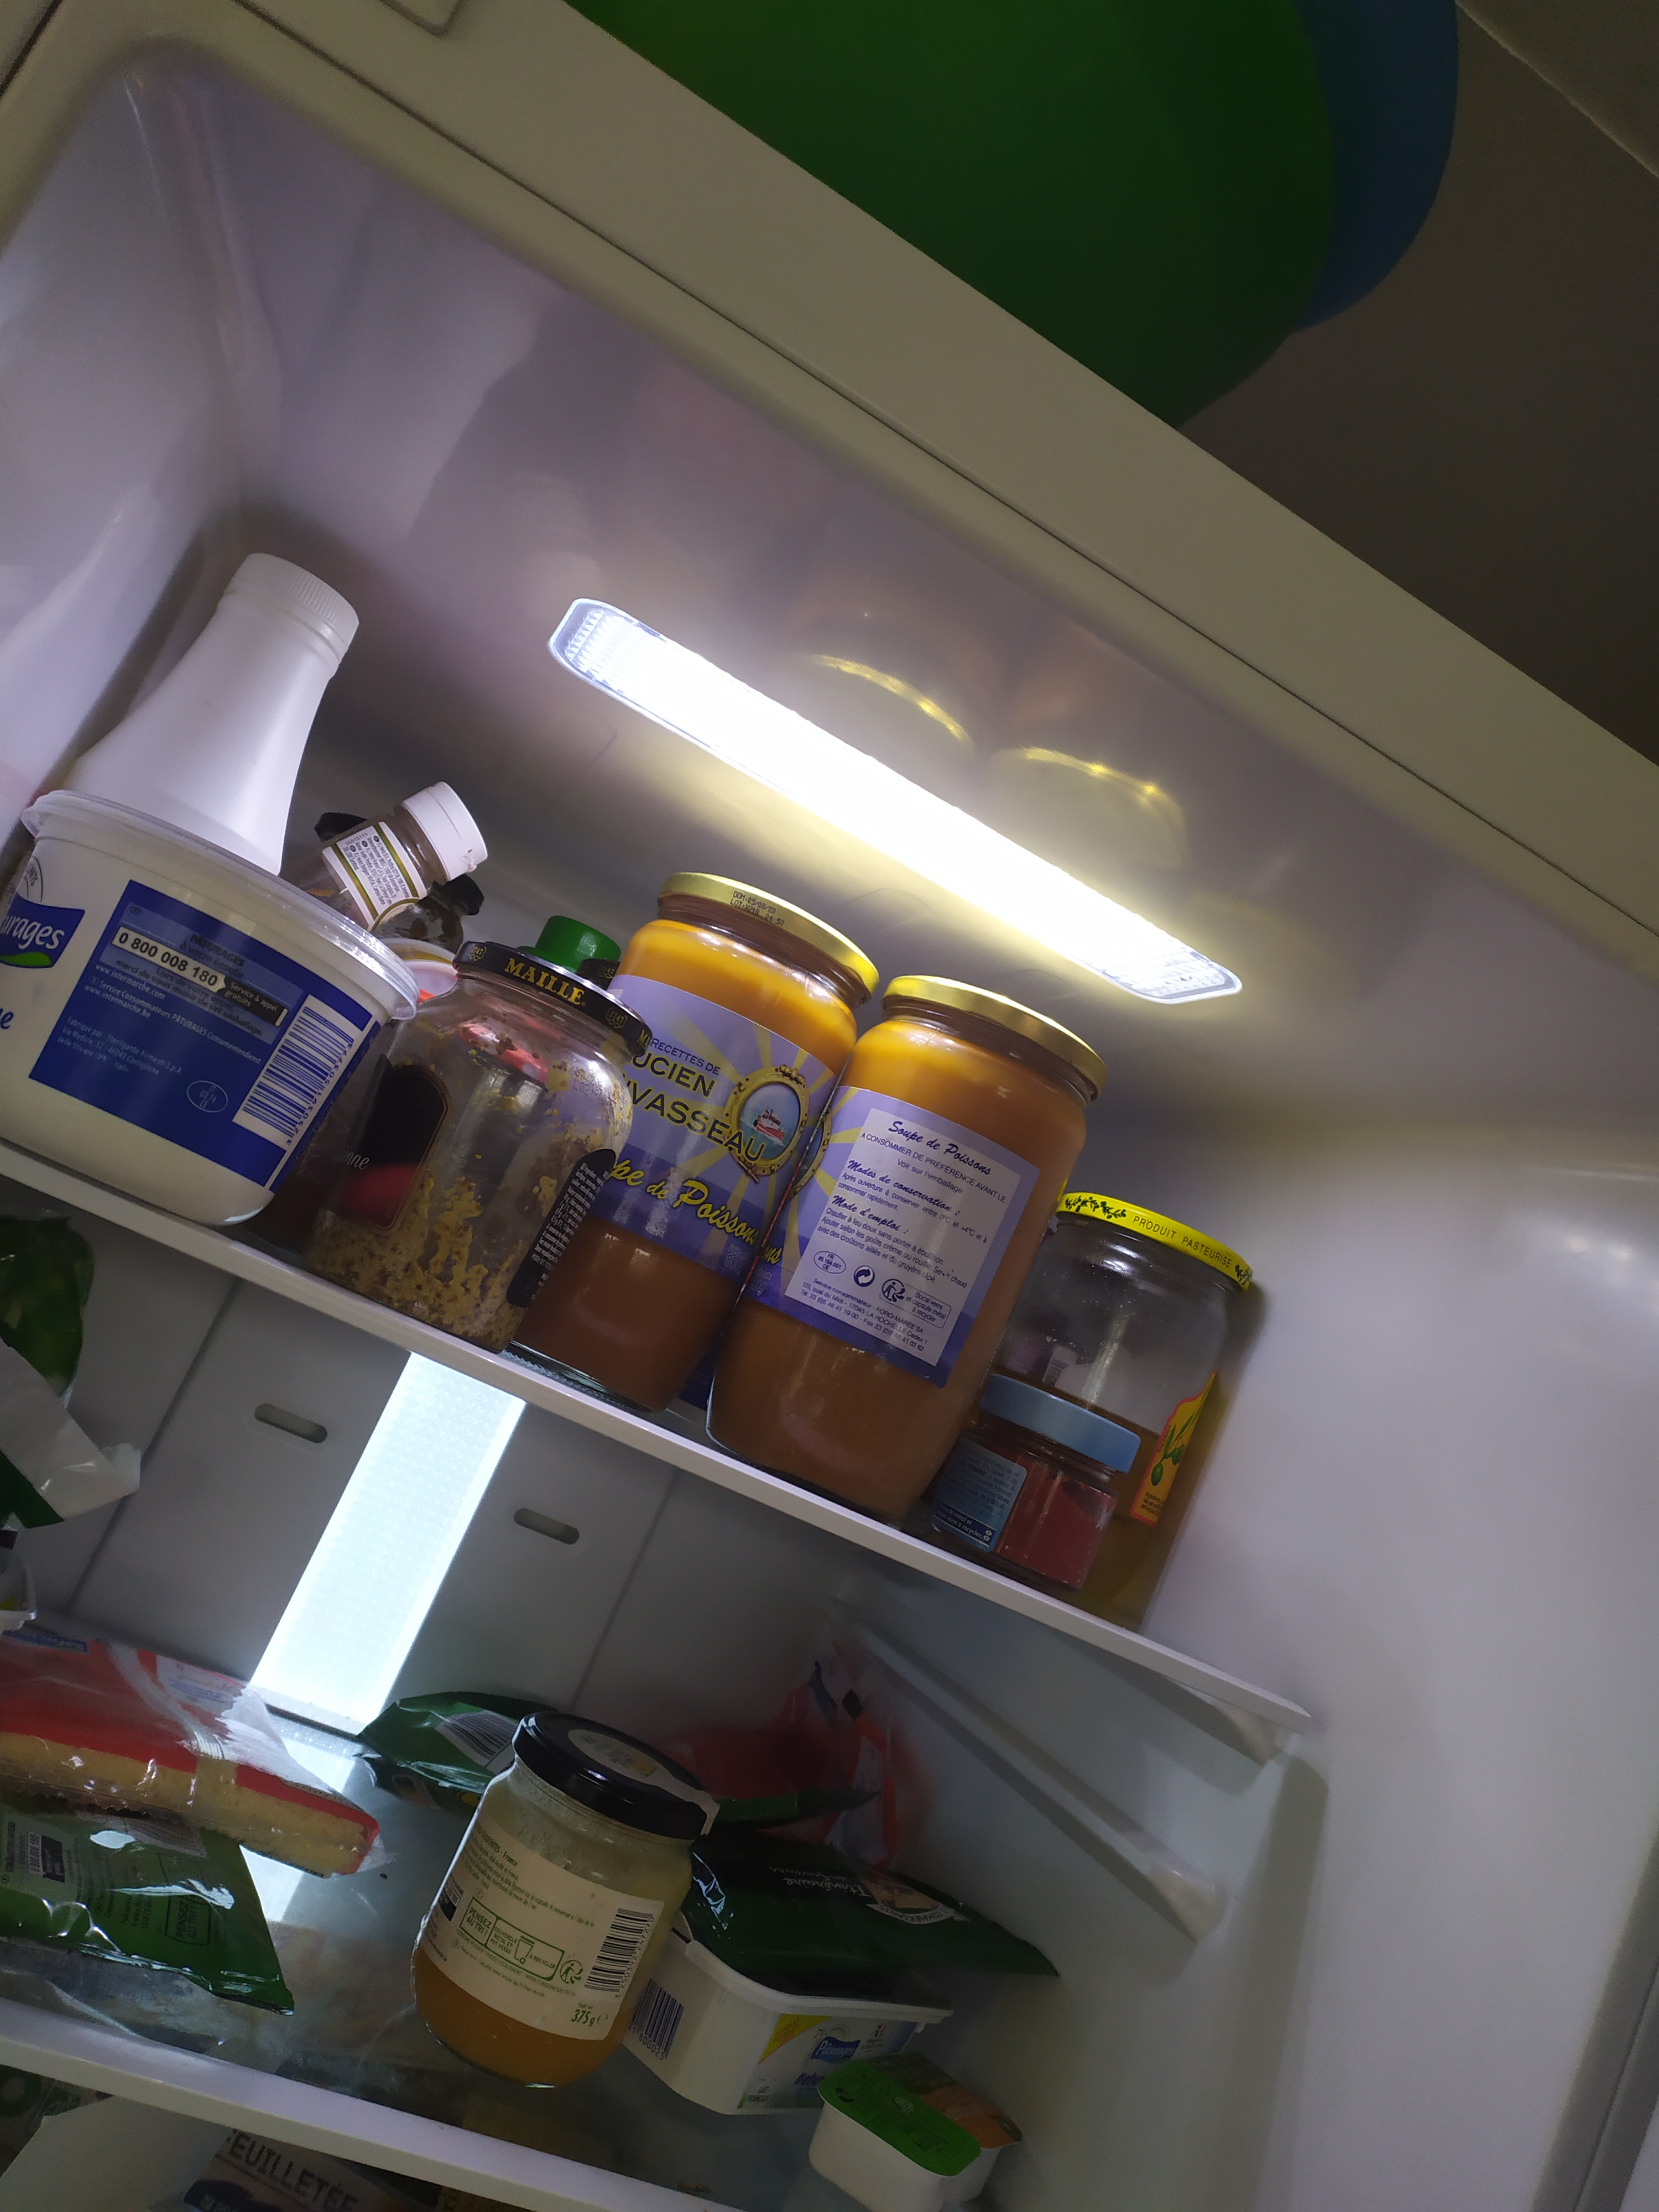cream: (0, 787, 415, 1219), (58, 545, 364, 951)
grated cheese: (5, 1632, 375, 1881)
